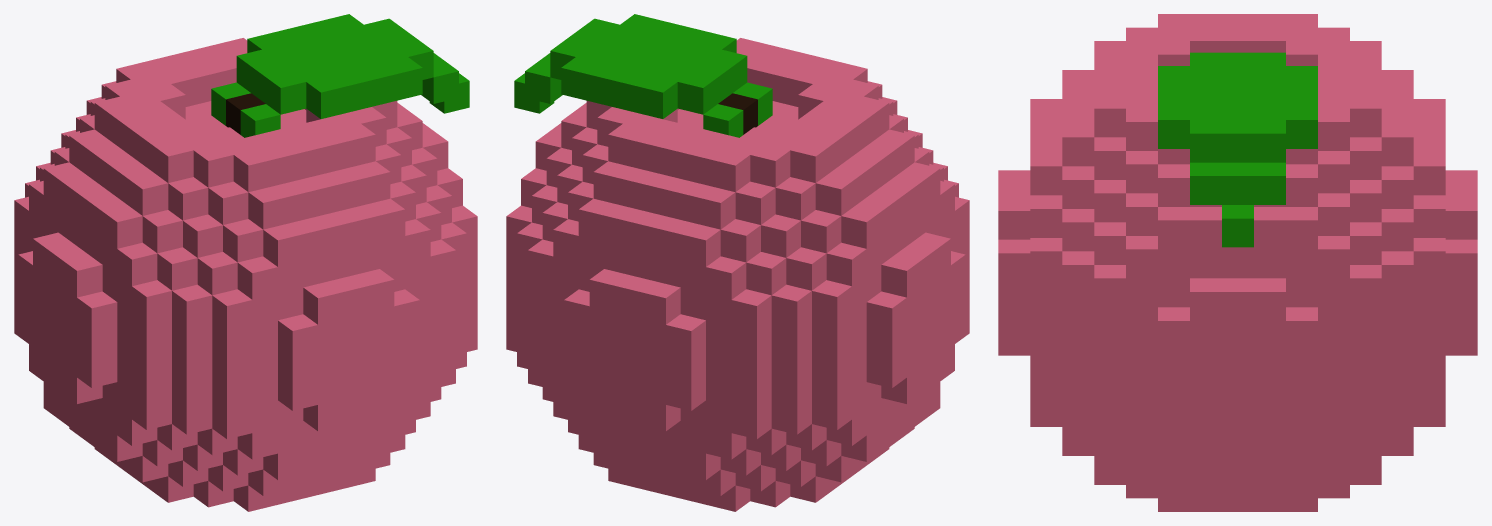
The model's file is Peach.fbx.
3 views of the same model, side by side, from view 1: azimuth 30°, elevation 25°; view 2: azimuth 150°, elevation 25°; view 3: azimuth 270°, elevation 25° (orthographic). The views are drawn at different scales.
Visible parts, largest first — view 1: Untitled; view 2: Untitled; view 3: Untitled.
Part boxes in pixels (box(x1,y1,x2,y2)): Untitled: box(14, 14, 477, 511); Untitled: box(506, 14, 969, 511); Untitled: box(998, 14, 1477, 511).
Size of the model in its own units: 160 by 140 by 150.
